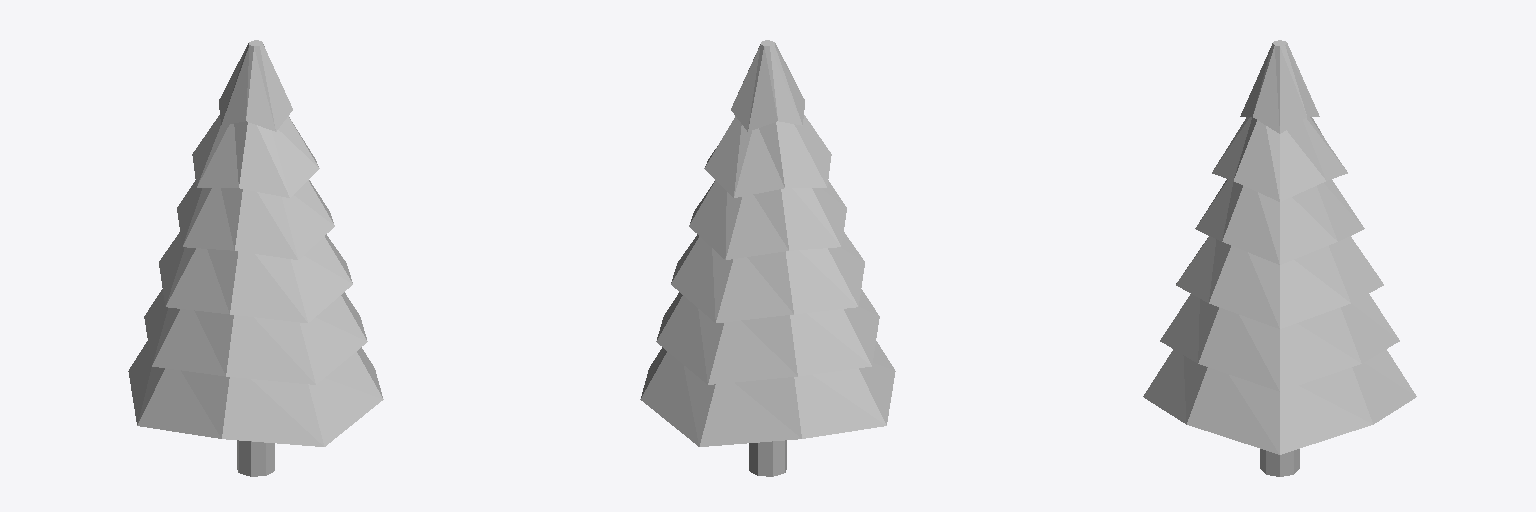
The model's file is PineTree.obj.
The picture shows the model from 3 angles: view 1: azimuth 30°, elevation 25°; view 2: azimuth 150°, elevation 25°; view 3: azimuth 270°, elevation 25°; orthographic projection.
Visible parts, largest first — view 1: Leaves; view 2: Leaves; view 3: Leaves.
Part boxes in pixels (x1,y1,x2,y2): Leaves: (128, 40, 383, 476); Leaves: (640, 40, 895, 476); Leaves: (1143, 40, 1416, 476).
Bounding box in the file's own units: 3.71 × 6.34 × 3.71.